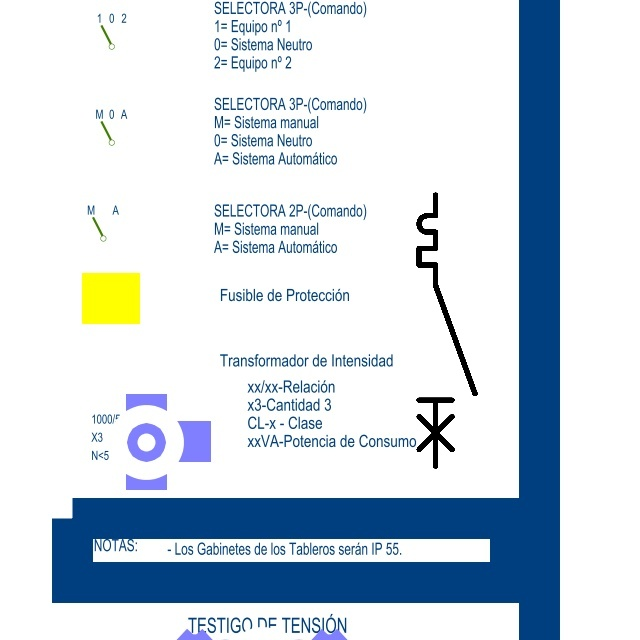interruptor_termomagnetico: (412, 188, 481, 473)
